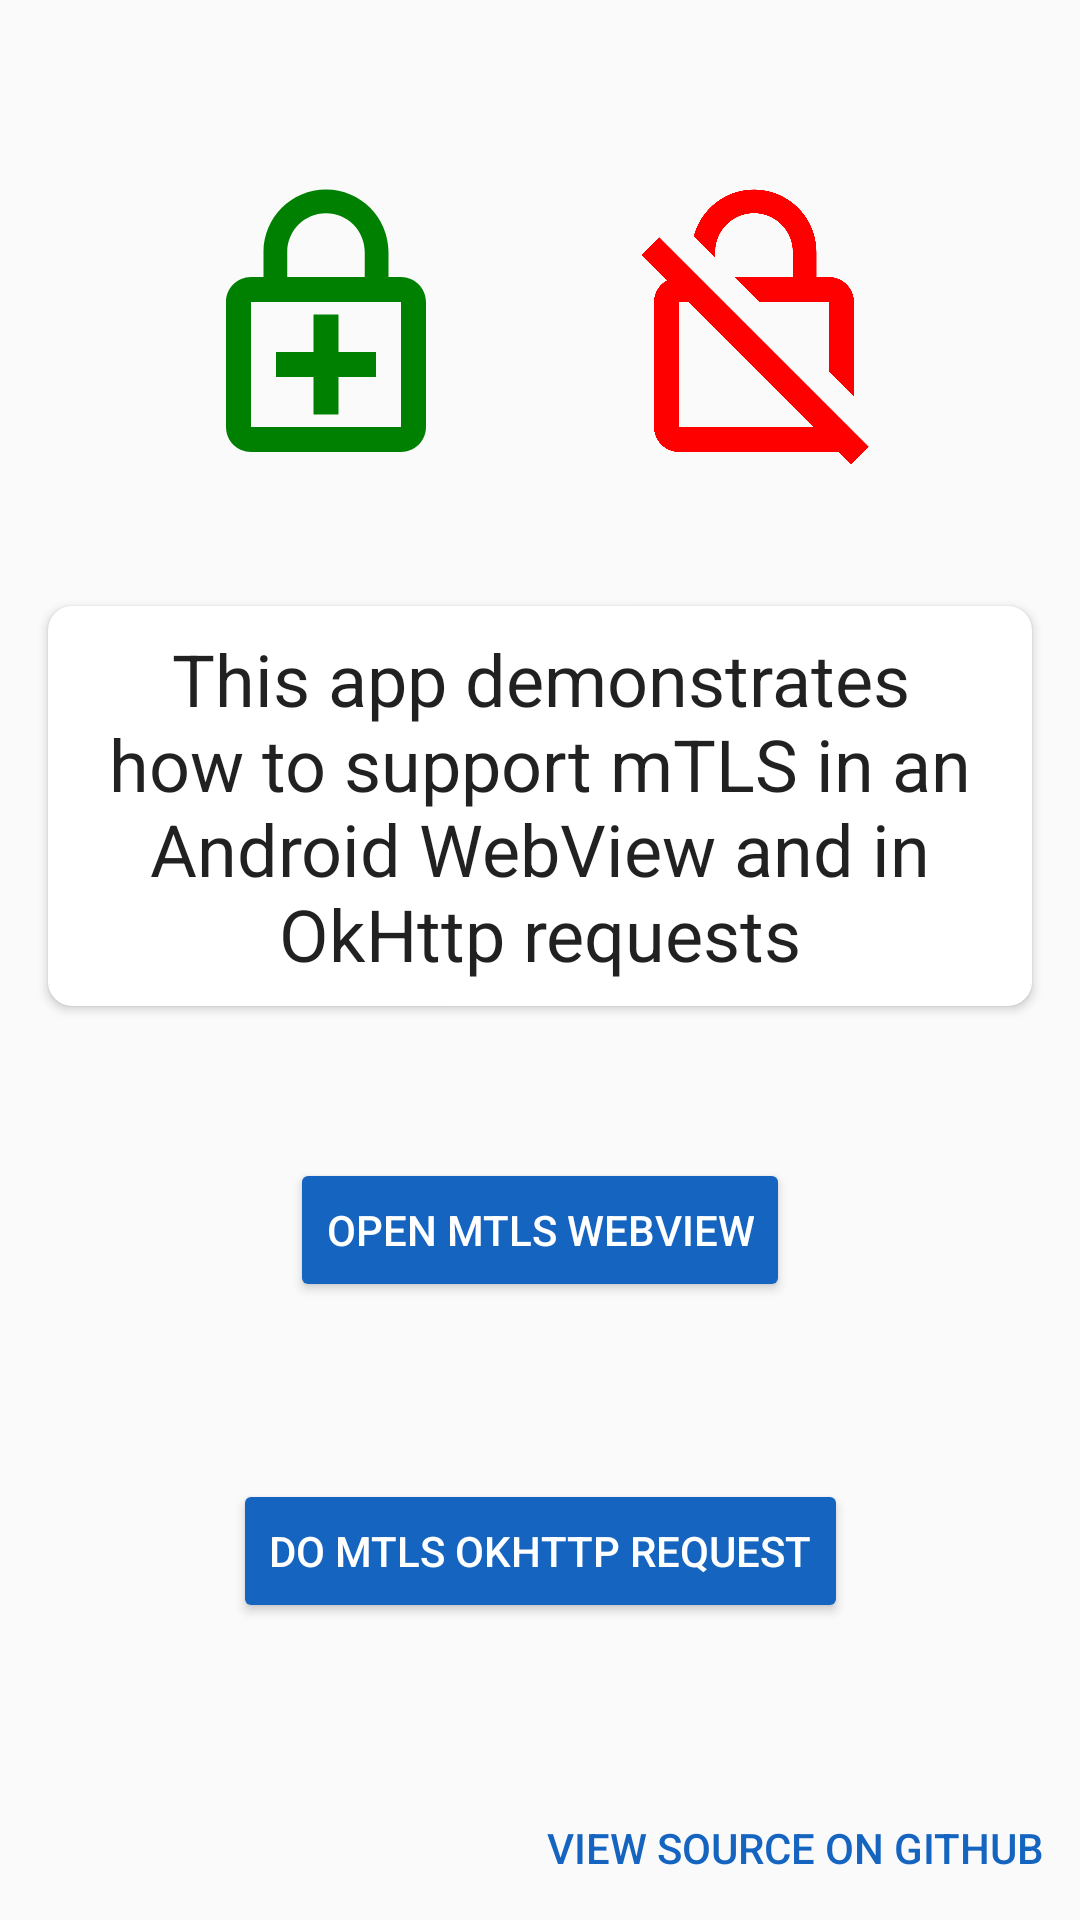

Screen size 1080×1920. Icon name, then its box in pixels as (x1, y1, x2, y2):
Insecure Icon: (642, 189, 869, 464)
Secure Icon: (226, 189, 426, 452)
